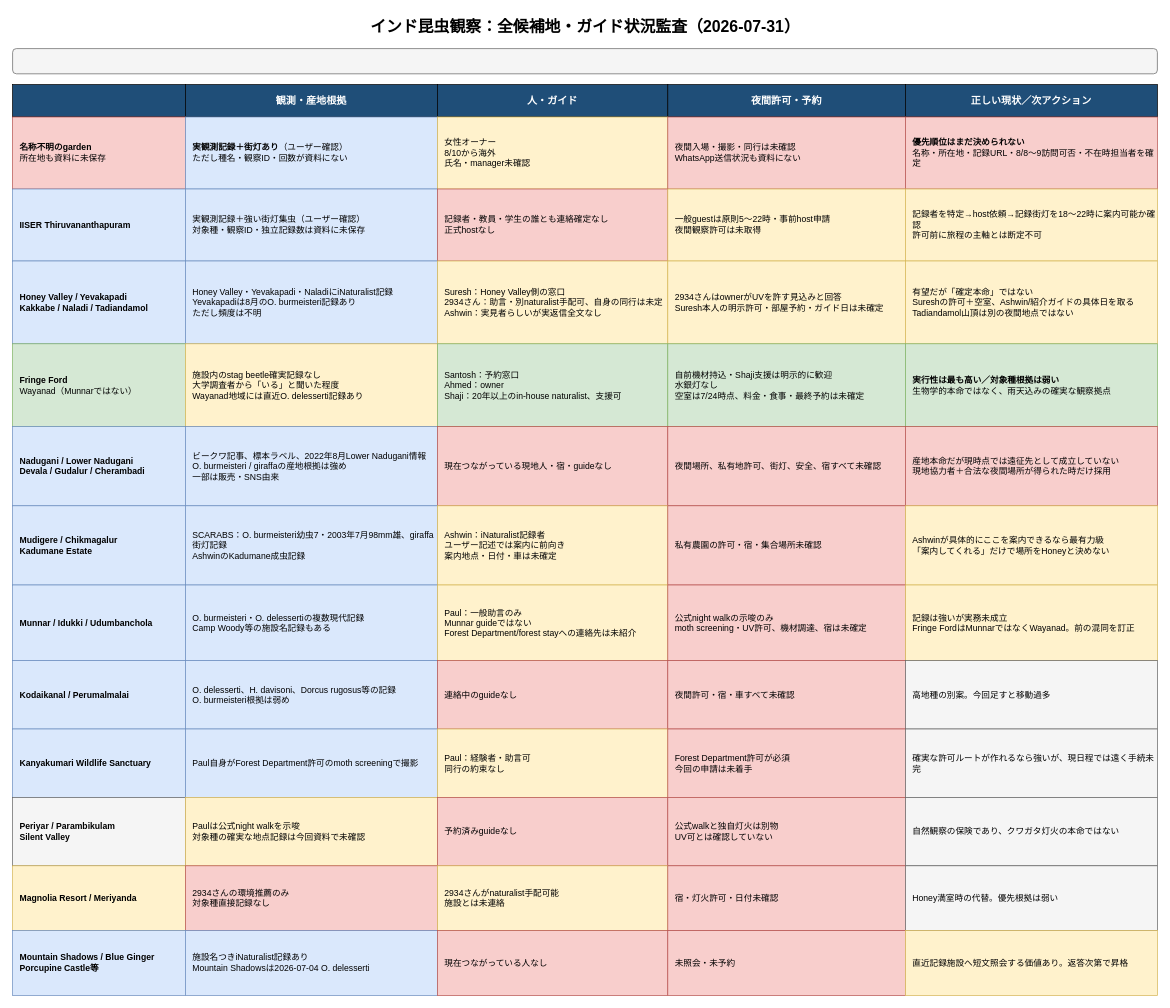
This 1170x1008 diagram has some shape labels left out. The centre of each missing label's shape, as x and y in pixels:
"行先" belongs at point 98,100.
"青＝実記録あり 緑＝実施体制が確認済み 黄＝一部確認 赤＝核心情報なし 灰＝今回の主軸外" belongs at point 584,61.
